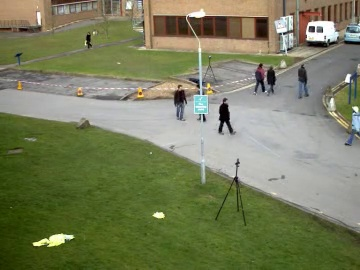person: (173, 84, 188, 121), (173, 84, 188, 120), (173, 85, 188, 121)
